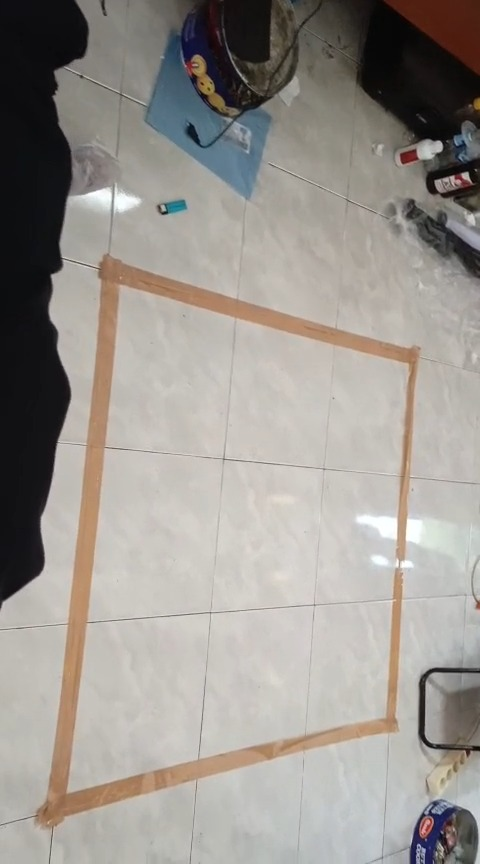floor marking: (37, 255, 419, 826)
